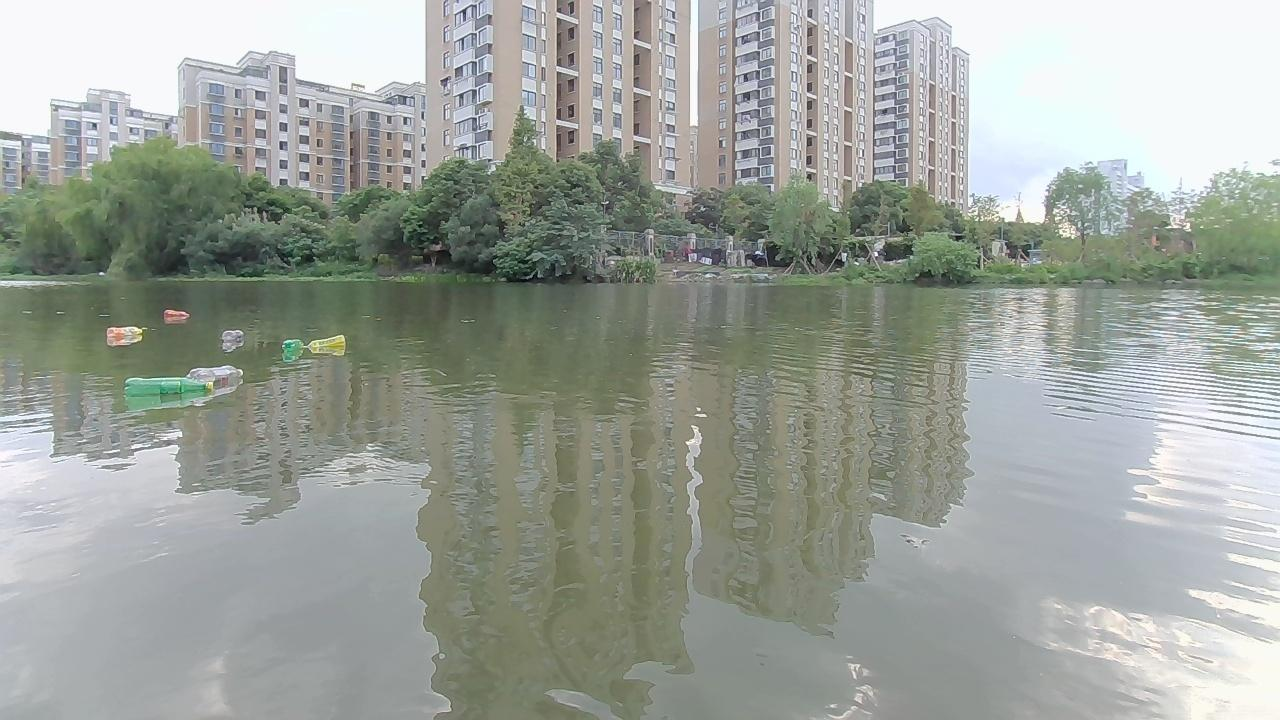bottle: (121, 372, 216, 410), (189, 367, 245, 395), (306, 332, 348, 353), (105, 325, 150, 344), (216, 325, 246, 348), (158, 304, 187, 322), (279, 335, 301, 355)
